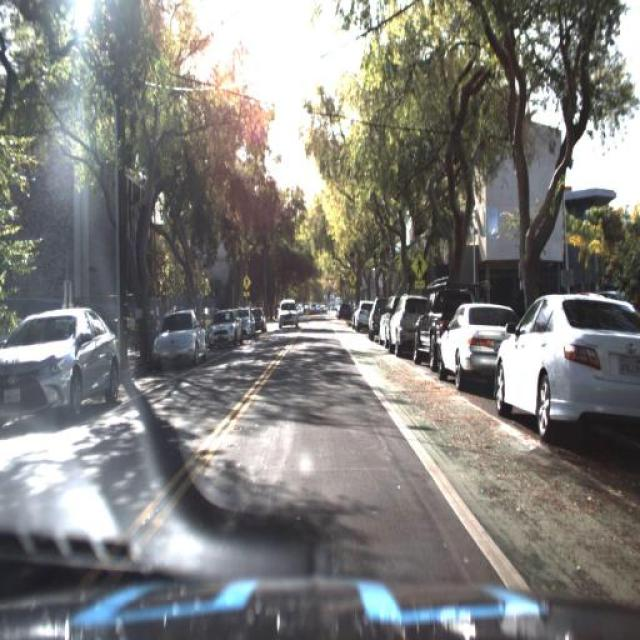car: (493, 286, 638, 435), (0, 304, 121, 432), (441, 296, 520, 372), (151, 308, 217, 378), (275, 294, 299, 337), (238, 302, 258, 342), (277, 295, 302, 327)
